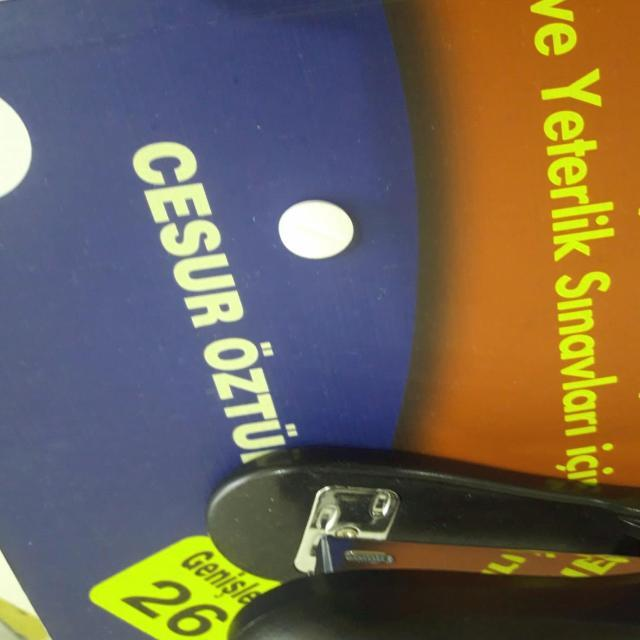pill: (272, 198, 363, 264)
